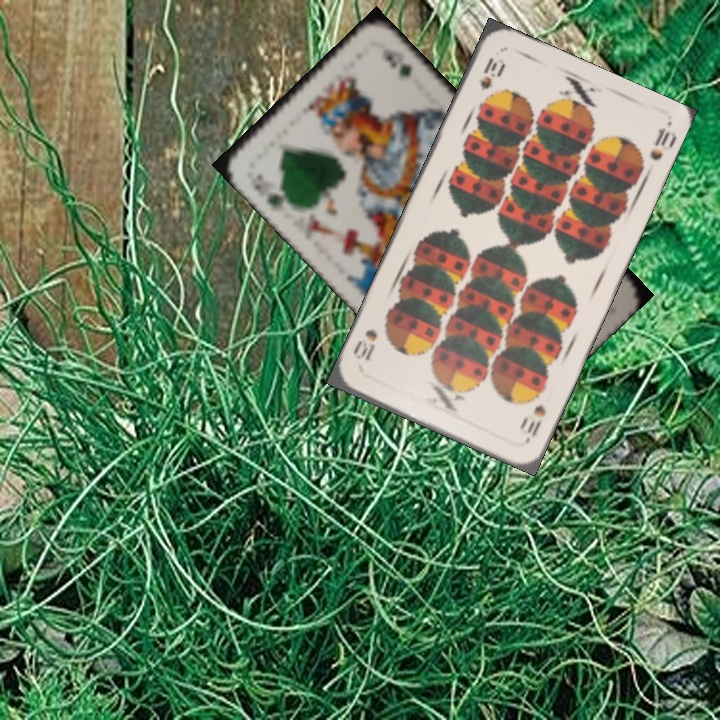GK: (250, 182, 293, 212)
S10: (474, 53, 506, 94), (522, 400, 549, 439)
